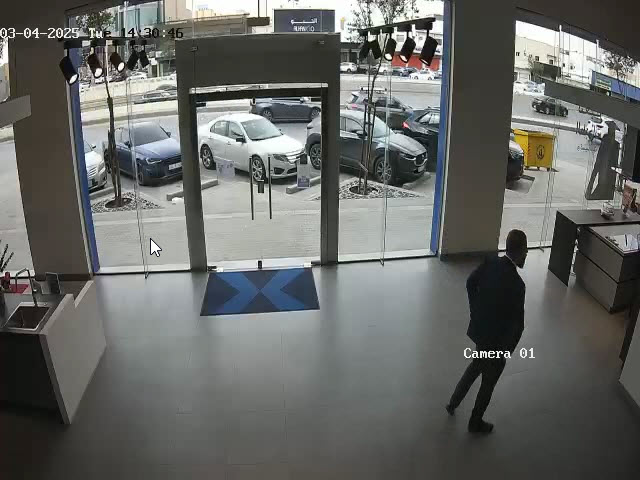employee: (445, 229, 528, 434)
other: (583, 114, 629, 212)
